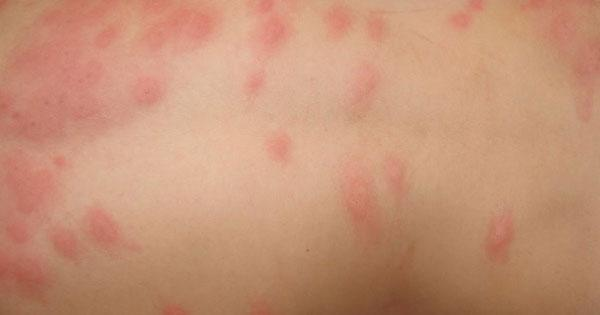Fleas: (0, 235, 60, 299), (0, 151, 45, 214), (244, 8, 299, 59), (475, 205, 521, 262), (340, 172, 377, 231), (82, 203, 123, 253), (344, 60, 377, 113), (129, 76, 168, 114), (382, 153, 407, 204), (50, 225, 80, 264), (550, 5, 580, 44), (263, 125, 293, 162), (0, 213, 31, 247), (569, 53, 599, 83), (366, 11, 388, 42), (243, 72, 268, 95), (331, 7, 348, 38)
